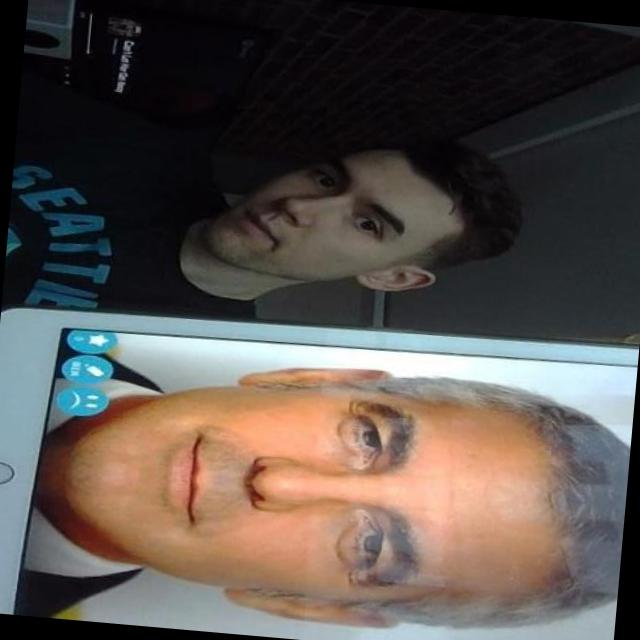bareface: (70, 343, 610, 611), (217, 127, 477, 297)
